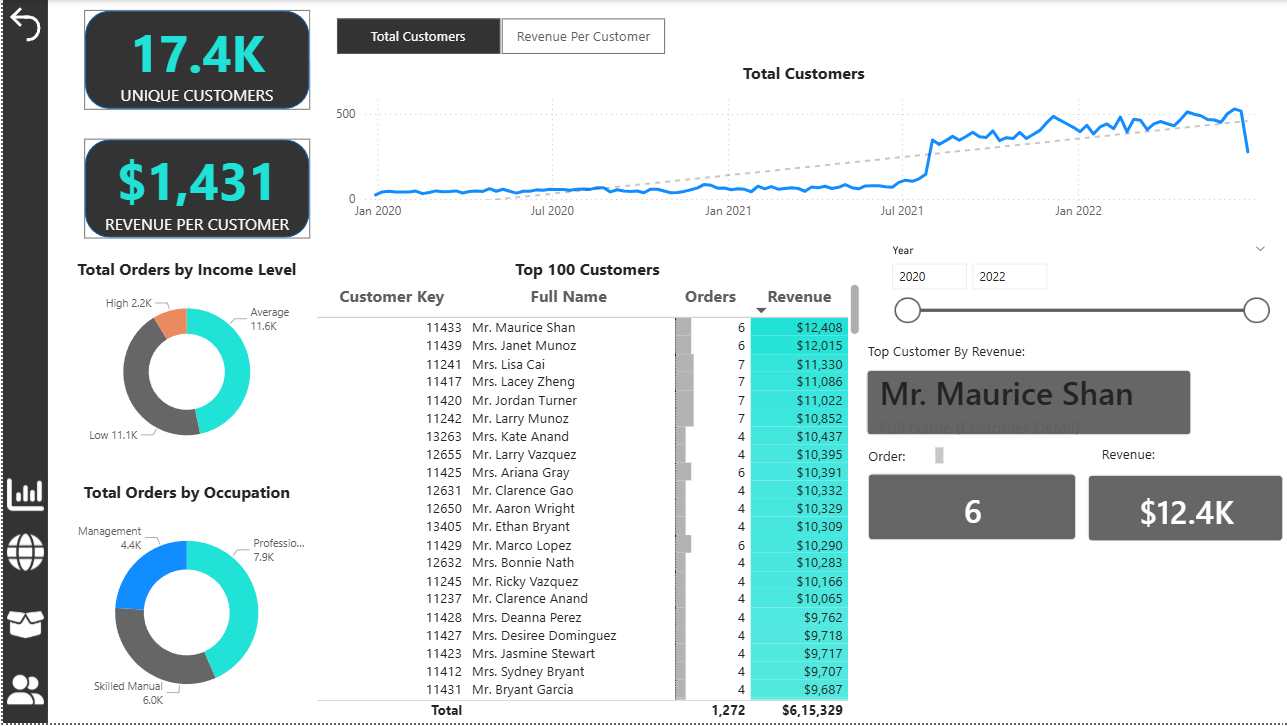

This screenshot's page, from the dashboard's own definition file:
{"tool":"powerbi","page":{"name":"Customer Detail","canvas":[1280,720],"ordinal":3},"visuals":[{"type":"lineChart","fields":{"Category":["Calendar Lookup.Date heirarachy.Start of Year","Calendar Lookup.Date heirarachy.Start of Month","Calendar Lookup.Date heirarachy.Start of Week","Calendar Lookup.Date heirarachy.Date"],"Y":["Measure Table.Total Customers"]},"box":[326.1,60.6,942.1,167.4],"z":0},{"type":"shape","box":[0,0,44.7,719.9],"z":1000},{"type":"actionButton","box":[0,460.3,44.8,64.7],"z":1000,"group":"g1"},{"type":"shape","box":[80.8,10.4,225.2,99.5],"z":2000},{"type":"shape","box":[80.8,138.3,225.2,99.5],"z":3000},{"type":"card","fields":{"Values":["Measure Table.Average Revenue Per Customer"]},"box":[80.8,138.8,225.1,99.6],"z":4000},{"type":"card","fields":{"Values":["Measure Table.Total Customers"]},"box":[80.8,11.5,225.1,99.6],"z":5000},{"type":"actionButton","box":[0,589.6,44.8,64.7],"z":5000,"group":"g1"},{"type":"donutChart","fields":{"Category":["Customer Lookup.Income Level"],"Y":["Measure Table.Total Orders"]},"box":[59.2,256.8,246.7,206.3],"z":6000},{"type":"actionButton","box":[0,516.9,44.8,64.7],"z":6000,"group":"g1"},{"type":"donutChart","fields":{"Category":["Customer Lookup.Occupation"],"Y":["Measure Table.Total Orders"]},"box":[59.2,477.6,246.7,242.4],"z":7000},{"type":"actionButton","box":[0,654.9,44.8,64.7],"z":7000,"group":"g1"},{"type":"tableEx","title":"Top 100 Customers","fields":{"Values":["Customer Lookup.CustomerKey","Customer Lookup.Full Name","Measure Table.Total Orders","Measure Table.Total Revenue"]},"box":[306,256.3,551.1,464],"z":8000},{"type":"cardVisual","fields":{"Data":["Customer Lookup.Full Name (Customer Detail)"]},"box":[854.8,362.7,333.4,75.9],"z":9000},{"type":"cardVisual","fields":{"Data":["Measure Table.Total Orders(Customer Detail)"]},"box":[855.3,466.4,217.6,76.8],"z":10000},{"type":"cardVisual","fields":{"Data":["Measure Table.Total Revenue (Customer Detail)"]},"box":[1074.9,467.5,204.9,76.5],"z":11000},{"type":"textbox","box":[855.3,334.2,206.2,28.4],"z":12000},{"type":"textbox","box":[855.3,440.8,85.3,25.6],"z":13000},{"type":"textbox","box":[1088.5,438,99.6,28.4],"z":14000},{"type":"slicer","fields":{"Values":["Calendar Lookup.Year"]},"box":[871.4,238.1,396.8,96.7],"z":15000},{"type":"actionButton","box":[0,0,44.8,48.5],"z":16000},{"type":"group","id":"g1","title":"Navigation Buttons","box":[0,460.3,44.8,260],"z":17000},{"type":"slicer","fields":{"Values":["Customer Metric Selection.Customer Metric Selection"]},"box":[306,11.2,376.9,49.8],"z":20000}]}

Visuals, with their boxes on the page's 1280x720 design canvas (x1, y1, x2, y2). These are canvas units, not pixel positions in the 1287x726 screenshot, which may show the page scaled, cropped or inside an application window:
lineChart - Calendar Lookup.Date heirarachy.Start of Year x Calendar Lookup.Date heirarachy.Start of Month: rect(326, 61, 1268, 228)
shape: rect(0, 0, 45, 720)
actionButton: rect(0, 460, 45, 525)
shape: rect(81, 10, 306, 110)
shape: rect(81, 138, 306, 238)
card - Measure Table.Average Revenue Per Customer: rect(81, 139, 306, 238)
card - Measure Table.Total Customers: rect(81, 12, 306, 111)
actionButton: rect(0, 590, 45, 654)
donutChart - Customer Lookup.Income Level x Measure Table.Total Orders: rect(59, 257, 306, 463)
actionButton: rect(0, 517, 45, 582)
donutChart - Customer Lookup.Occupation x Measure Table.Total Orders: rect(59, 478, 306, 720)
actionButton: rect(0, 655, 45, 720)
"Top 100 Customers" tableEx: rect(306, 256, 857, 720)
cardVisual - Customer Lookup.Full Name (Customer Detail): rect(855, 363, 1188, 439)
cardVisual - Measure Table.Total Orders(Customer Detail): rect(855, 466, 1073, 543)
cardVisual - Measure Table.Total Revenue (Customer Detail): rect(1075, 468, 1280, 544)
textbox: rect(855, 334, 1062, 363)
textbox: rect(855, 441, 941, 466)
textbox: rect(1088, 438, 1188, 466)
slicer - Calendar Lookup.Year: rect(871, 238, 1268, 335)
actionButton: rect(0, 0, 45, 48)
"Navigation Buttons" group: rect(0, 460, 45, 720)
slicer - Customer Metric Selection.Customer Metric Selection: rect(306, 11, 683, 61)
